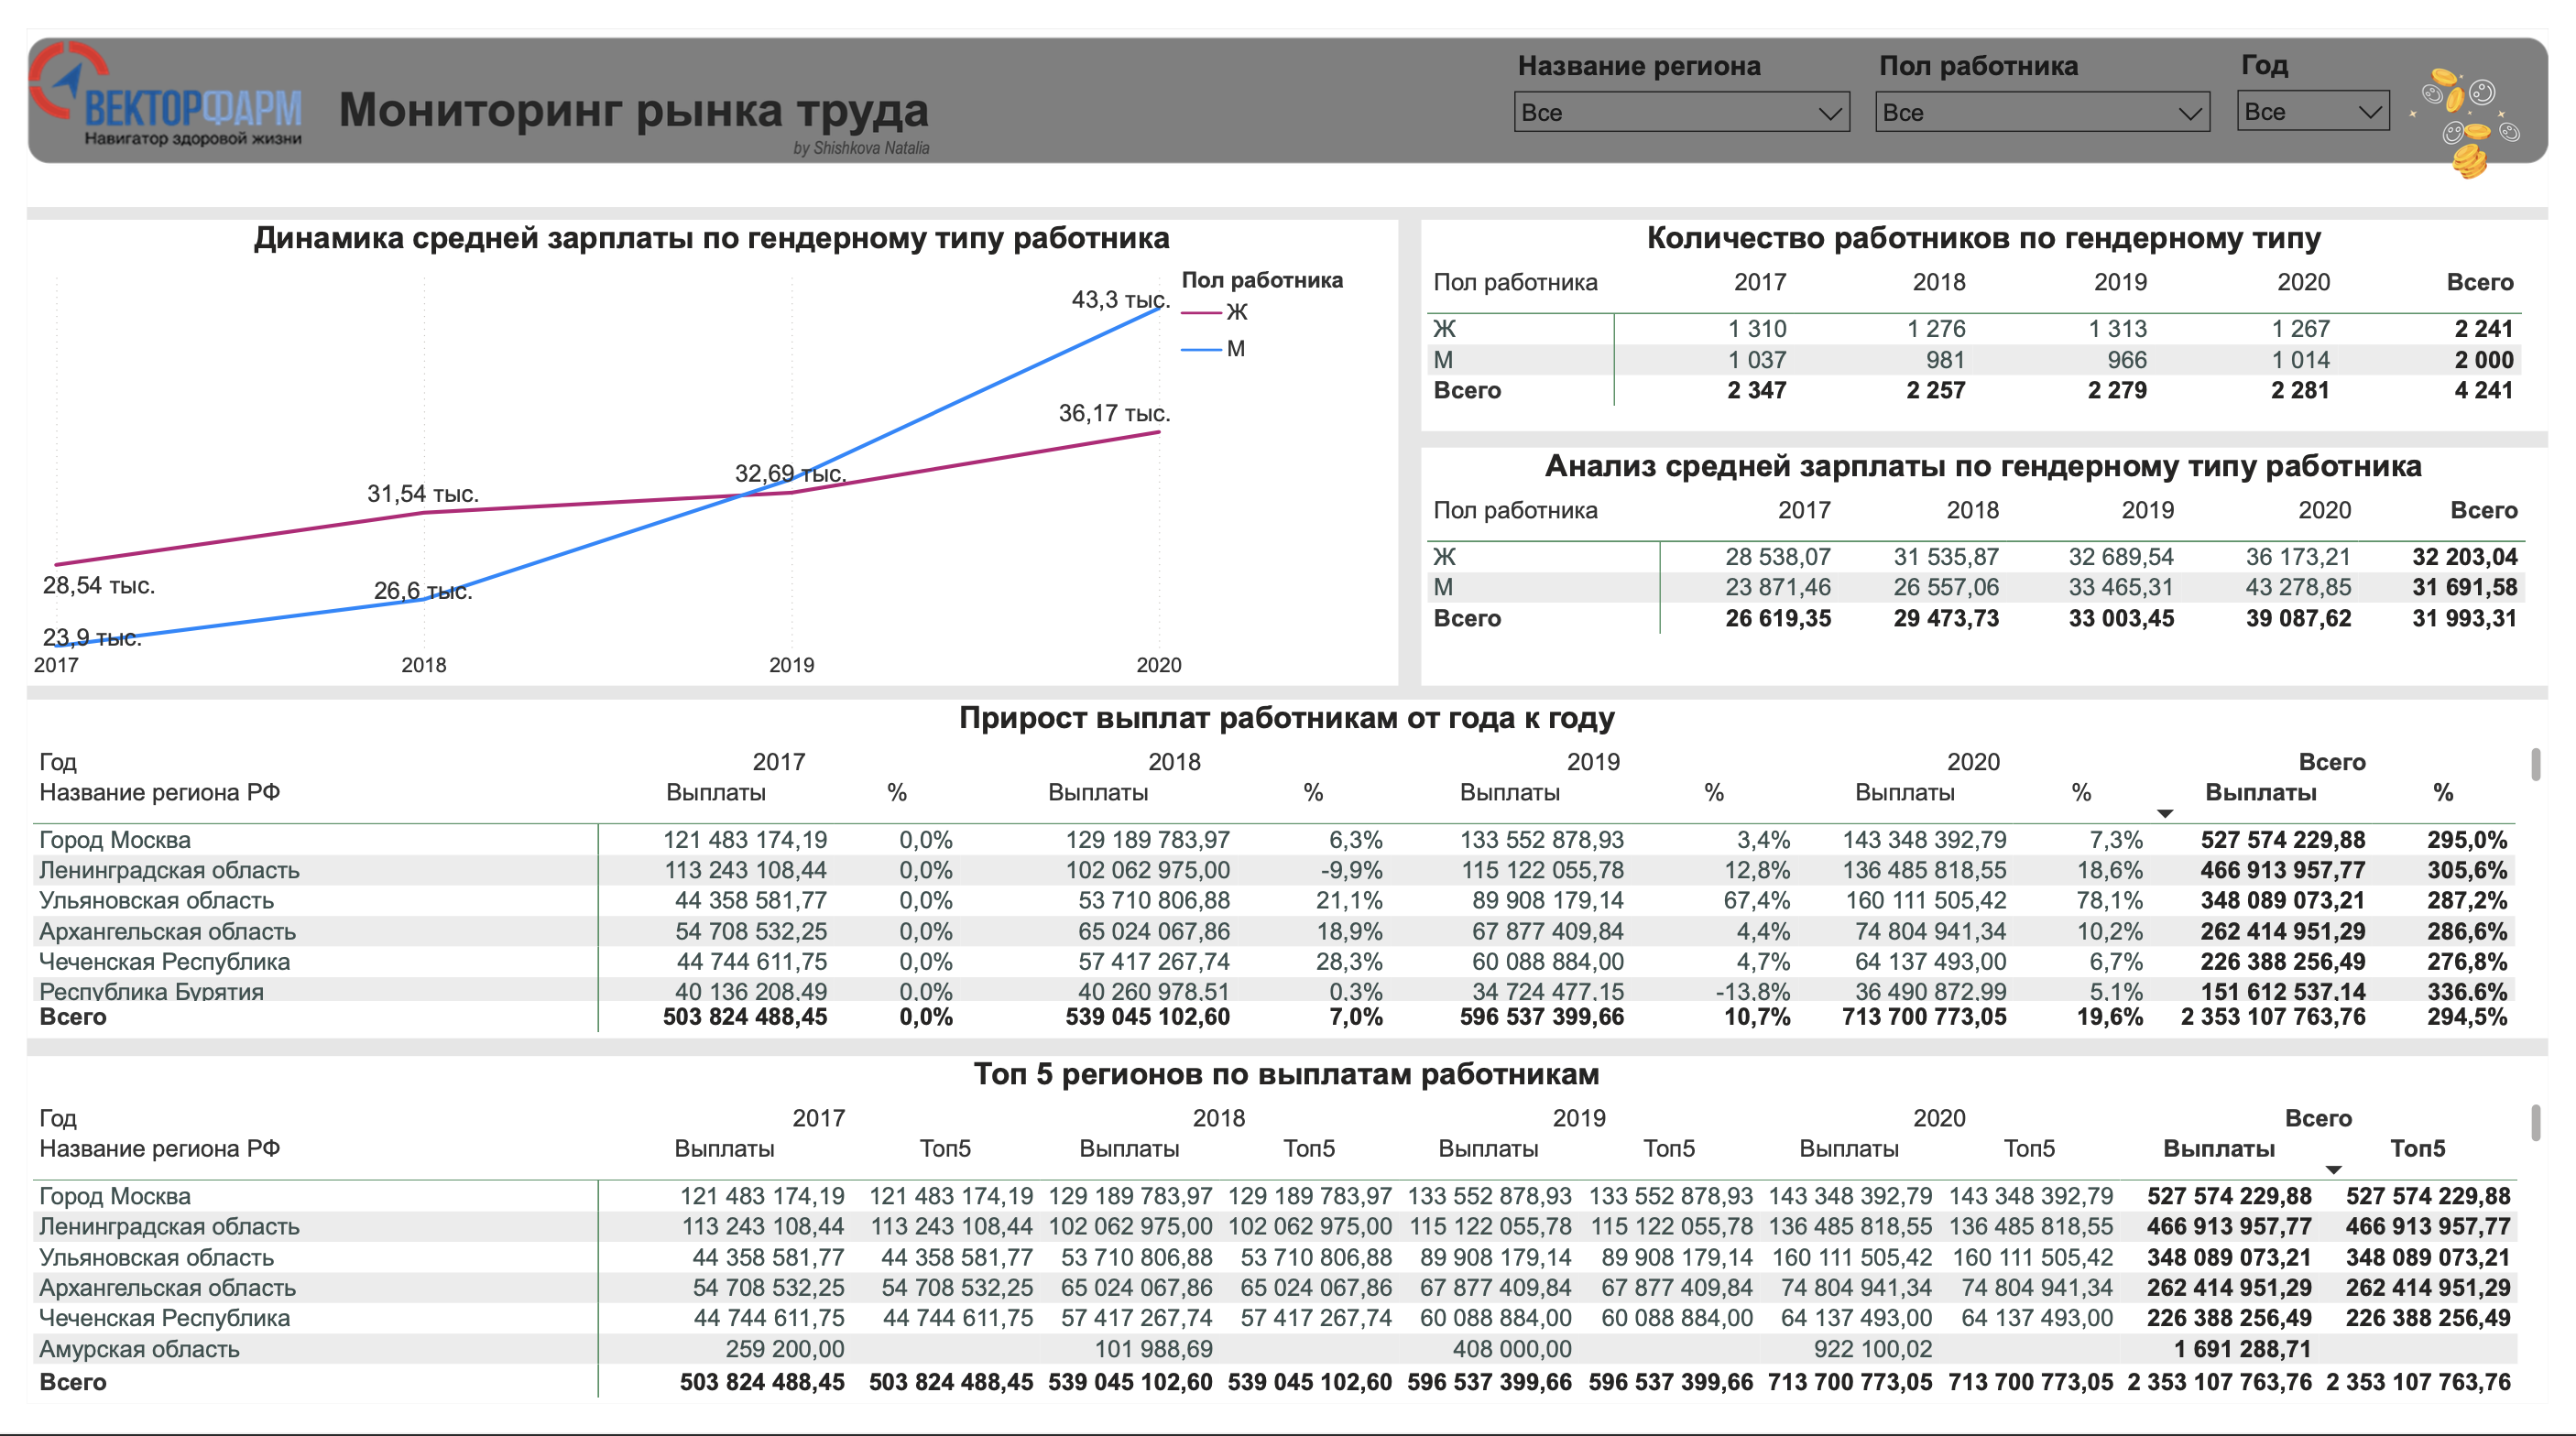

The dashboard page shown, as its layout file describes it:
{"tool":"powerbi","page":{"name":"Дашборд_2","canvas":[1980,1080],"ordinal":1},"visuals":[{"type":"lineChart","title":"Динамика средней зарплаты по гендерному типу  работника","fields":{"Category":["календарь.Год"],"Y":["выплаты работодателей работникам.Средняя ЗП"],"Series":["работники.Пол работника"]},"box":[0,150,1077,366],"z":0},{"type":"pivotTable","title":"Прирост выплат  работникам от года к году","fields":{"Rows":["справочник ОКТМО (регионов РФ).Название региона РФ"],"Values":["выплаты работодателей работникам.Выплаты","выплаты работодателей работникам.%"],"Columns":["календарь.Год"]},"box":[0,526.7,1980,266.7],"z":1000},{"type":"pivotTable","title":"Топ 5 регионов по выплатам работникам","fields":{"Rows":["справочник ОКТМО (регионов РФ).Название региона РФ"],"Values":["выплаты работодателей работникам.Выплаты","выплаты работодателей работникам.Выплаты_Топ5"],"Columns":["календарь.Год"]},"box":[0,806.7,1980,273.3],"z":2000},{"type":"image","box":[0,0,1980,140],"z":3000},{"type":"pivotTable","title":"Анализ средней зарплаты по гендерному типу  работника","fields":{"Rows":["работники.Пол работника"],"Values":["выплаты работодателей работникам.Средняя ЗП"],"Columns":["календарь.Год"]},"box":[1095,329,885,187],"z":4000},{"type":"pivotTable","title":"Количество работников по гендерному типу ","fields":{"Rows":["работники.Пол работника"],"Columns":["календарь.Год"],"Values":["выплаты работодателей работникам.Количество работников"]},"box":[1095,150,885,166],"z":5000},{"type":"slicer","fields":{"Values":["календарь.Год"]},"box":[1725.7,11.4,140,81.4],"z":6000},{"type":"slicer","fields":{"Values":["справочник ОКТМО (регионов РФ).Название региона РФ"]},"box":[1158.3,11.7,283.3,81.7],"z":7000},{"type":"slicer","fields":{"Values":["работники.Пол работника"]},"box":[1441.7,11.7,283.3,81.7],"z":8000}]}

Visuals, with their boxes in screenshot pixels (x1, y1, x2, y2), scaled from the page's 1980x1080 canvas onto the 2576x1436 screenshot:
"Динамика средней зарплаты по гендерному типу  работника" lineChart: x1=0, y1=200, x2=1402, y2=686
"Прирост выплат  работникам от года к году" pivotTable: x1=0, y1=701, x2=2575, y2=1055
"Топ 5 регионов по выплатам работникам" pivotTable: x1=0, y1=1072, x2=2575, y2=1435
image: x1=0, y1=0, x2=2575, y2=186
"Анализ средней зарплаты по гендерному типу  работника" pivotTable: x1=1424, y1=438, x2=2575, y2=686
"Количество работников по гендерному типу " pivotTable: x1=1424, y1=200, x2=2575, y2=420
slicer - календарь.Год: x1=2245, y1=16, x2=2428, y2=124
slicer - справочник ОКТМО (регионов РФ).Название региона РФ: x1=1507, y1=16, x2=1875, y2=125
slicer - работники.Пол работника: x1=1876, y1=16, x2=2244, y2=125
